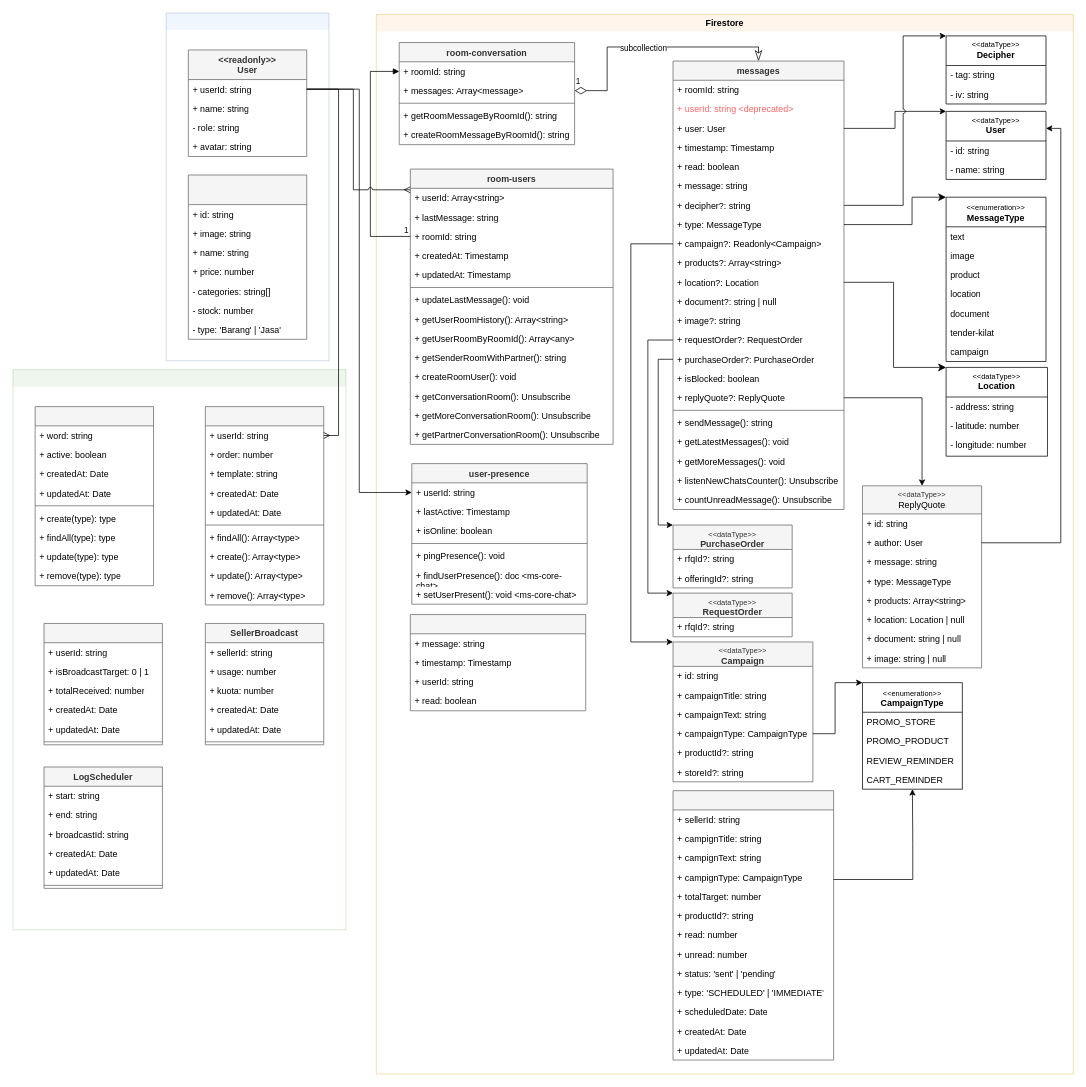
This 1086x1087 diagram has some shape labels left out. The box of each missing label's shape, as (x1, y1, x2, y2) in pixels:
<<readonly>> Product: (188, 174, 307, 339)
broadcast-message: (672, 790, 834, 1060)
BuyerBroadcast: (43, 623, 162, 745)
LastMessage: (410, 614, 586, 711)
MongoDB: (12, 369, 346, 930)
Padi Services: (165, 12, 329, 361)
ShortcutMessage: (205, 406, 324, 605)
WordCensor: (34, 406, 154, 586)
